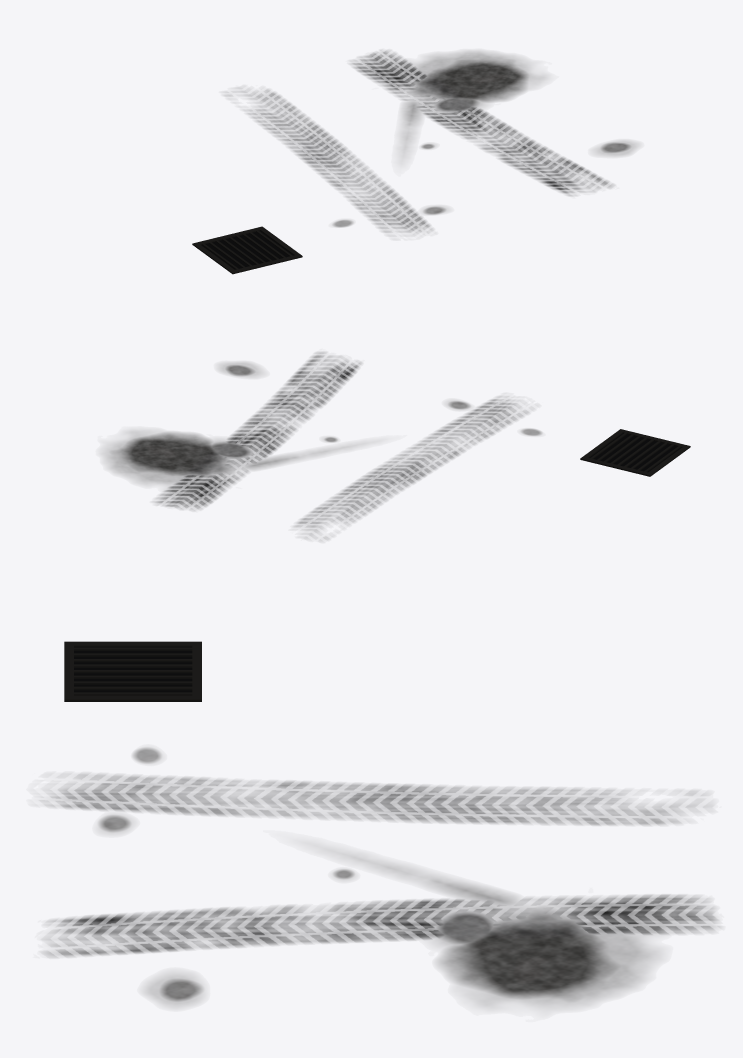
The model's file is floor-decals.glb.
The picture shows the model from 3 angles, top to bottom: view 1: azimuth 30°, elevation 25°; view 2: azimuth 150°, elevation 25°; view 3: azimuth 270°, elevation 25°; orthographic projection. The views are drawn at different scales.
Visible parts, largest first — view 1: floordecal; view 2: floordecal; view 3: floordecal.
Part boxes in pixels (x1,y1,x2,y2): floordecal: (192, 51, 635, 274); floordecal: (105, 352, 690, 538); floordecal: (45, 641, 718, 1005).
Bounding box in the file's own units: 1.88 × 0.0044 × 1.35.
2 materials, 1 textured.
